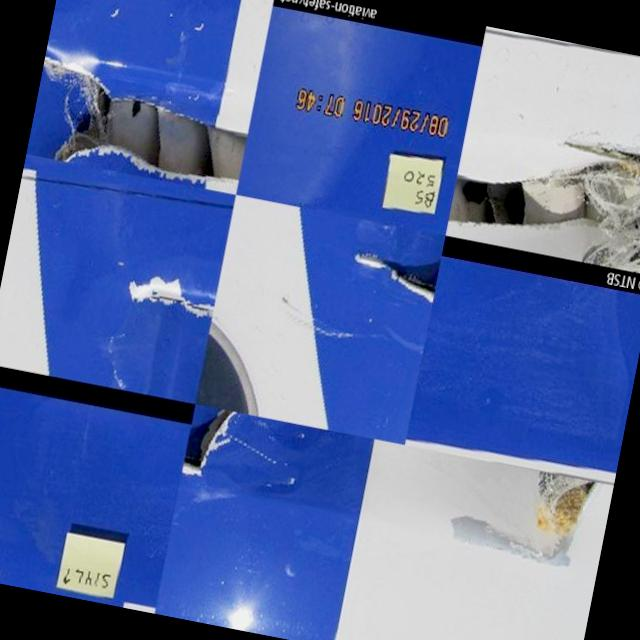crack: (145, 274, 210, 329)
